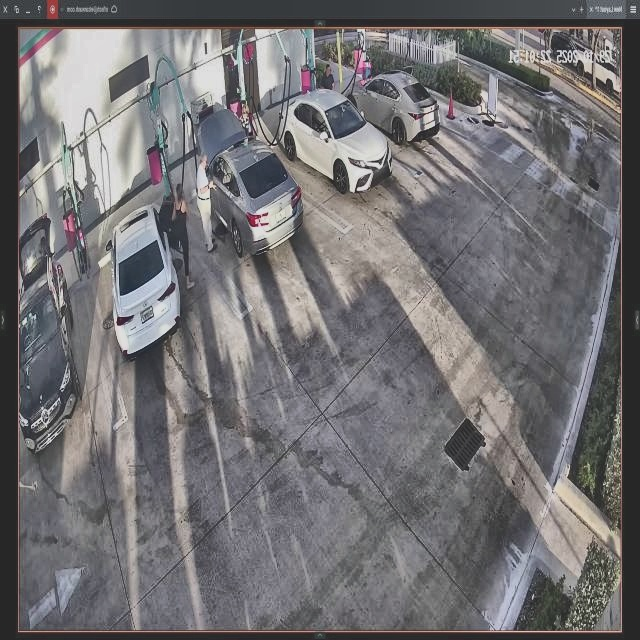Car: (202, 112, 301, 258), (279, 90, 390, 196), (109, 205, 180, 358), (344, 70, 439, 143)
